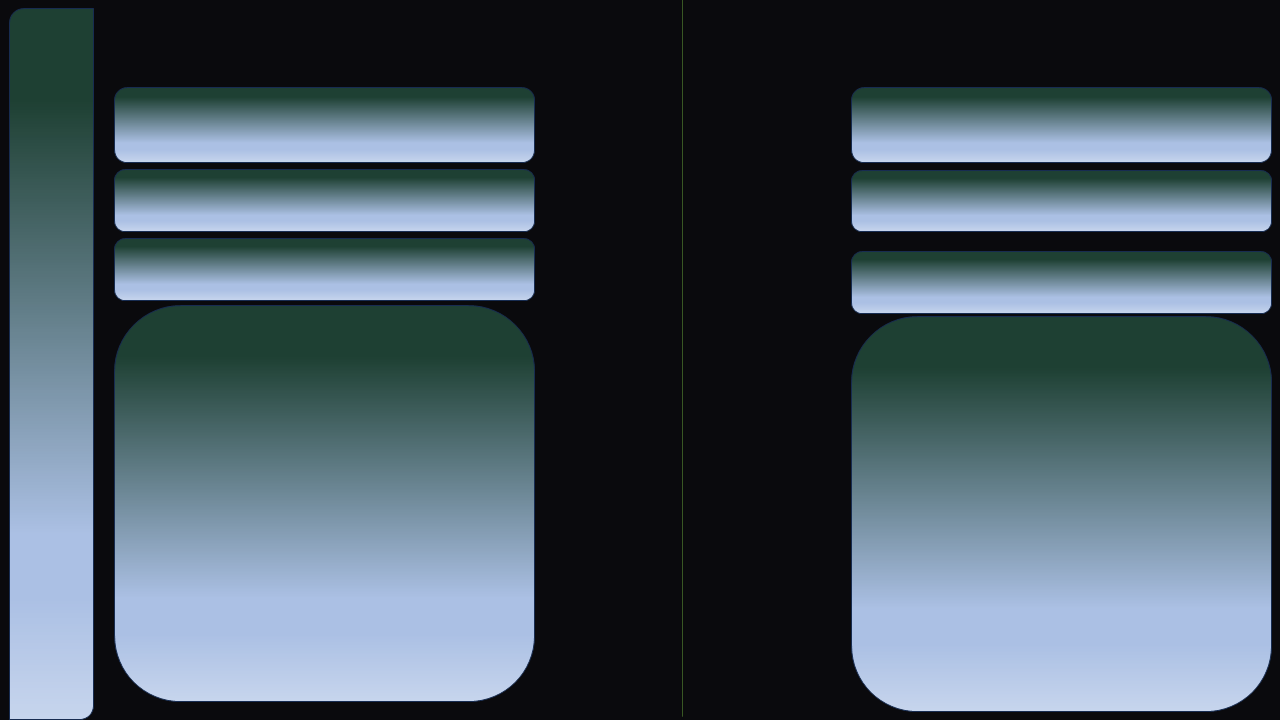

Layout of this report page (visuals, bound fields, positions):
{"tool":"powerbi","page":{"name":"Comparaison","canvas":[1280,720],"ordinal":3},"visuals":[{"type":"slicer","fields":{"Values":["Calendar.Date"]},"box":[151.1,230.6,372.2,73.2],"z":0},{"type":"slicer","fields":{"Values":["DATA.City"]},"box":[136.8,154.3,386.5,60.4],"z":1000},{"type":"slicer","fields":{"Values":["Parameter 2.Parameter"]},"box":[125.7,76.3,381.7,79.5],"z":3000},{"type":"image","box":[0,623.4,97.5,59.3],"z":7000},{"type":"image","box":[0,359.5,97.5,105.2],"z":8000},{"type":"actionButton","title":"HOME","box":[10,369.5,99.4,105.2],"z":9000},{"type":"image","box":[0,214.2,82.2,107.1],"z":10000},{"type":"actionButton","title":"Quantity","box":[0,200.8,82.2,120.5],"z":11000},{"type":"image","box":[0,495.3,82.2,80.3],"z":12000},{"type":"actionButton","title":"comparé","box":[0,462.8,82.2,143.4],"z":13000},{"type":"textbox","title":"Sales Dashboard","box":[82.2,19.1,541.2,57.4],"z":14000},{"type":"image","box":[114.5,0,73.2,74.8],"z":15000},{"type":"image","box":[7.6,19.1,74.6,74.6],"z":16000},{"type":"slicer","fields":{"Values":["Calendar.Date"]},"box":[897,240.6,372.2,73.2],"z":16001},{"type":"slicer","fields":{"Values":["DATA.City"]},"box":[882.7,164.3,386.5,60.4],"z":16002},{"type":"slicer","fields":{"Values":["Parameter.Parameter"]},"box":[858.1,76.6,397,79.7],"z":16004},{"type":"clusteredBarChart","fields":{"Y":["Metrics.CA Commande"],"Category":["DATA.Product Name"]},"box":[131.3,317.3,397,365.7],"z":16005},{"type":"clusteredBarChart","fields":{"Y":["Metrics.Quantité Facturé"],"Category":["DATA.Product Name"]},"box":[858.1,337.6,397,362.6],"z":16006}]}

Visuals, with their boxes in screenshot pixels (x1, y1, x2, y2), scaled from the page's 1280x720 canvas onto the 1280x720 screenshot:
slicer - Calendar.Date: bbox=[151, 231, 523, 304]
slicer - DATA.City: bbox=[137, 154, 523, 215]
slicer - Parameter 2.Parameter: bbox=[126, 76, 507, 156]
image: bbox=[0, 623, 98, 683]
image: bbox=[0, 360, 98, 465]
"HOME" actionButton: bbox=[10, 370, 109, 475]
image: bbox=[0, 214, 82, 321]
"Quantity" actionButton: bbox=[0, 201, 82, 321]
image: bbox=[0, 495, 82, 576]
"comparé" actionButton: bbox=[0, 463, 82, 606]
"Sales Dashboard" textbox: bbox=[82, 19, 623, 76]
image: bbox=[114, 0, 188, 75]
image: bbox=[8, 19, 82, 94]
slicer - Calendar.Date: bbox=[897, 241, 1269, 314]
slicer - DATA.City: bbox=[883, 164, 1269, 225]
slicer - Parameter.Parameter: bbox=[858, 77, 1255, 156]
clusteredBarChart - Metrics.CA Commande x DATA.Product Name: bbox=[131, 317, 528, 683]
clusteredBarChart - Metrics.Quantité Facturé x DATA.Product Name: bbox=[858, 338, 1255, 700]
